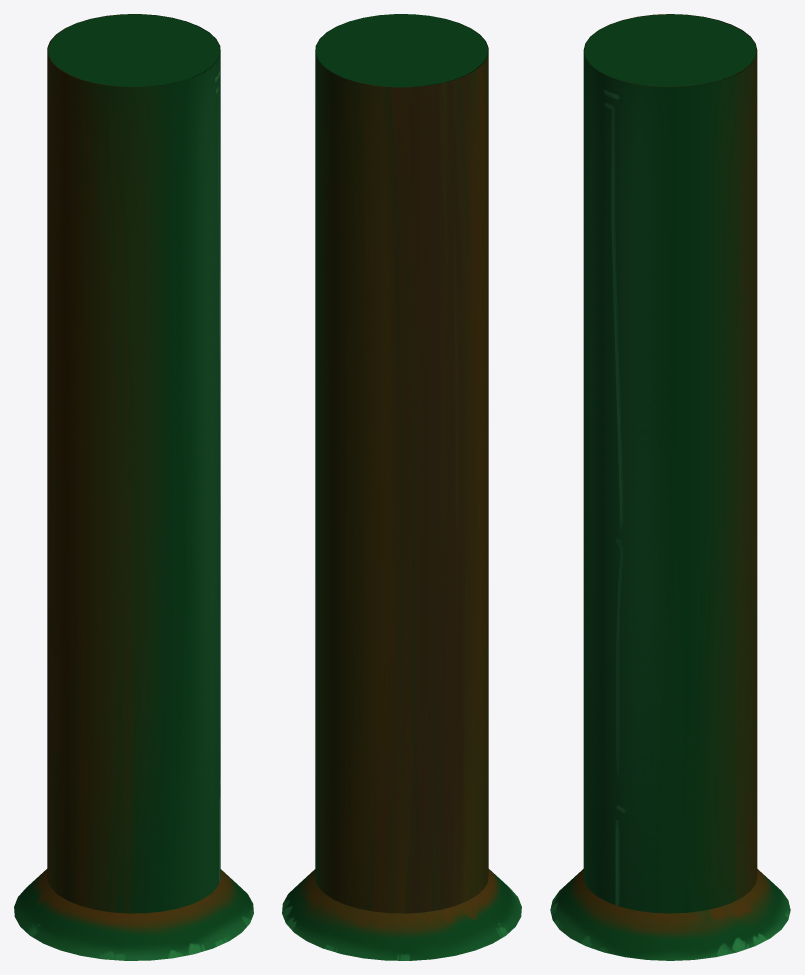
File: Cano.fbx
3 views of the same model, side by side, from view 1: azimuth 30°, elevation 25°; view 2: azimuth 150°, elevation 25°; view 3: azimuth 270°, elevation 25° (orthographic).
Visible parts, largest first — view 1: Cylinder.001; view 2: Cylinder.001; view 3: Cylinder.001.
Part boxes in pixels (bbox=[...]): Cylinder.001: bbox=[14, 14, 253, 960]; Cylinder.001: bbox=[282, 14, 521, 960]; Cylinder.001: bbox=[550, 14, 790, 960].
Bounding box in the file's own units: 213 × 840 × 213.
